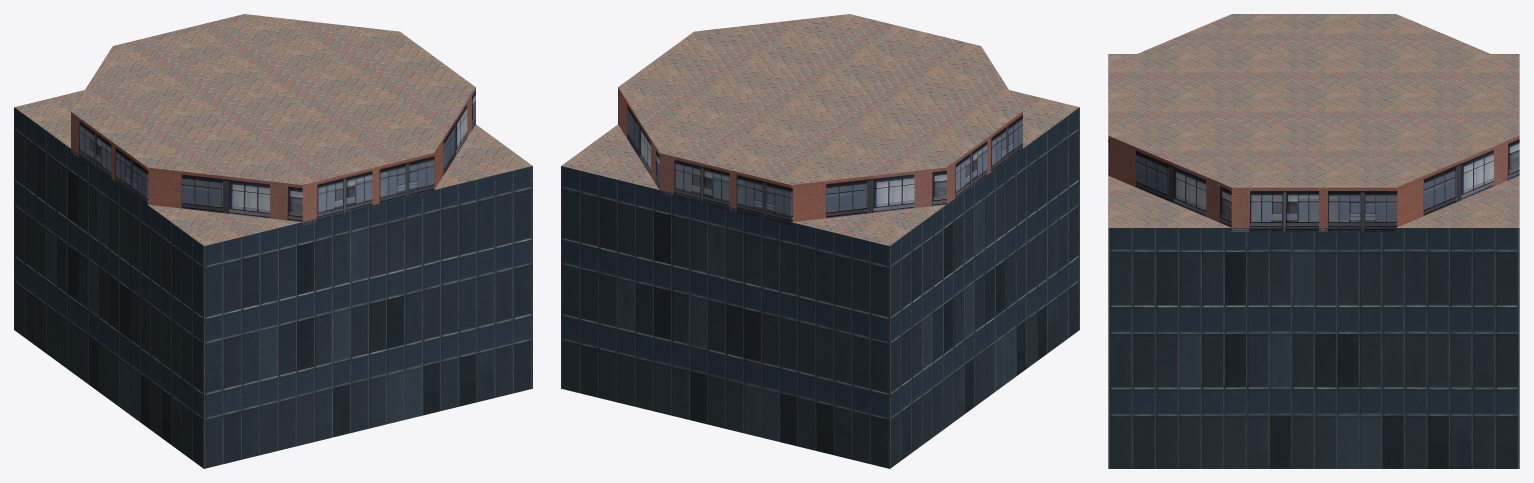
Rendered from Building8.fbx.
The picture shows the model from 3 angles, left to right: view 1: azimuth 30°, elevation 25°; view 2: azimuth 150°, elevation 25°; view 3: azimuth 270°, elevation 25°; orthographic projection. The views are drawn at different scales.
Visible parts, largest first — view 1: Building7; view 2: Building7; view 3: Building7.
Boxes of the visible parts, x1,y1,x2,y2 form: Building7: (14,14,532,468); Building7: (561,14,1079,468); Building7: (1108,14,1519,468).
Bounding box in the file's own units: 60000 × 45291 × 60000.
